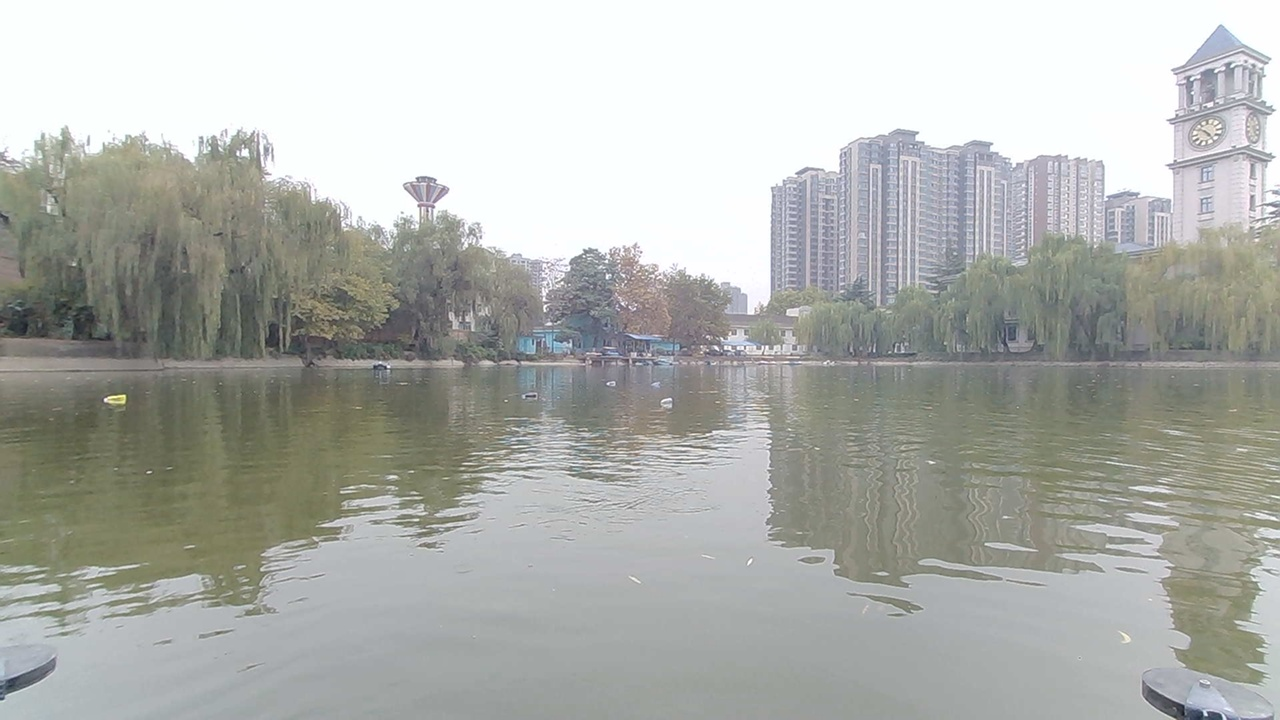bottle: (97, 390, 139, 414), (518, 383, 548, 405), (653, 389, 683, 410), (647, 370, 680, 387), (603, 371, 625, 390)
